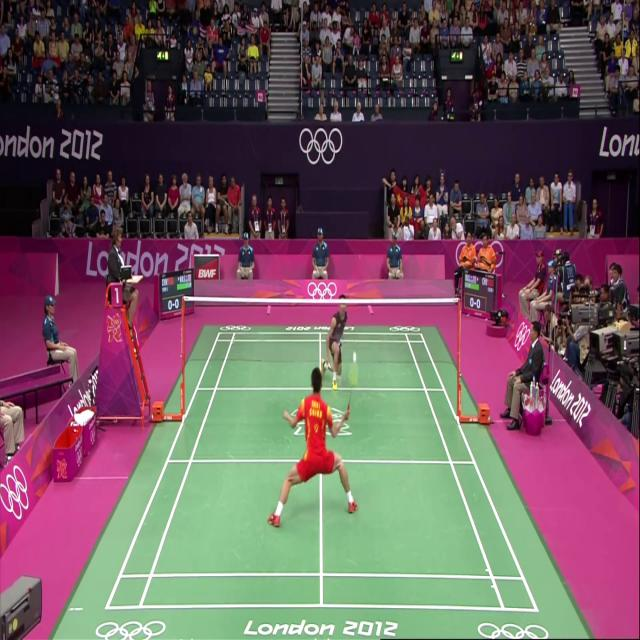Net: (180, 294, 461, 369)
Player1: (268, 346, 359, 539)
Player2: (318, 292, 354, 383)
Shuttlecock: (349, 349, 361, 367)
